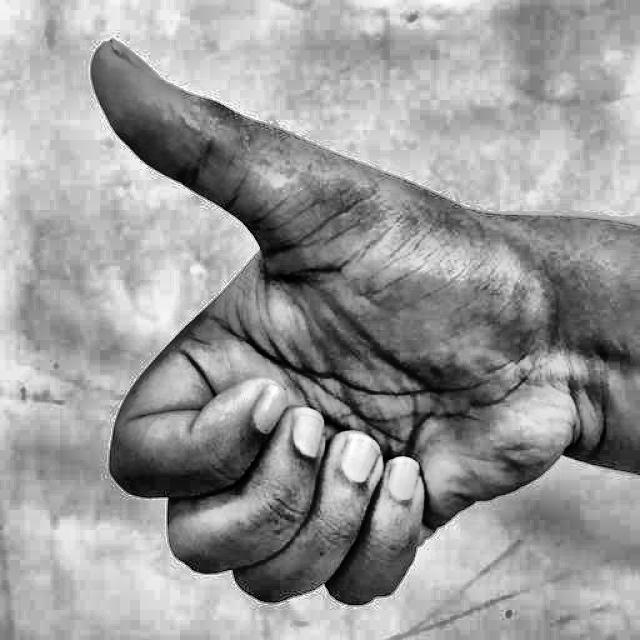Do: (61, 32, 582, 626)
